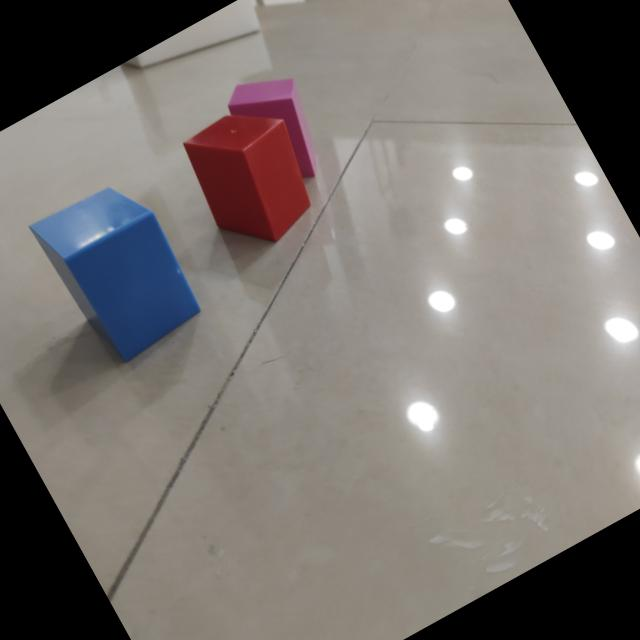blue: (31, 188, 201, 364)
pink: (229, 76, 315, 178)
red: (185, 114, 313, 244)
